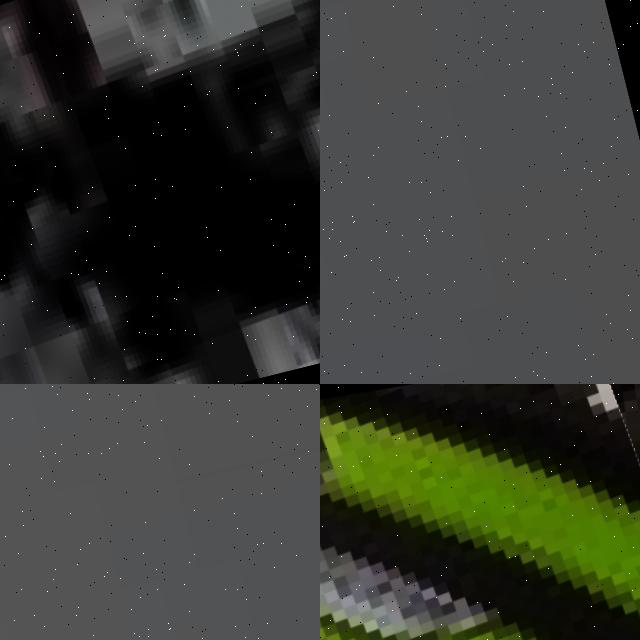drone: (0, 0, 320, 384), (320, 384, 640, 640)
